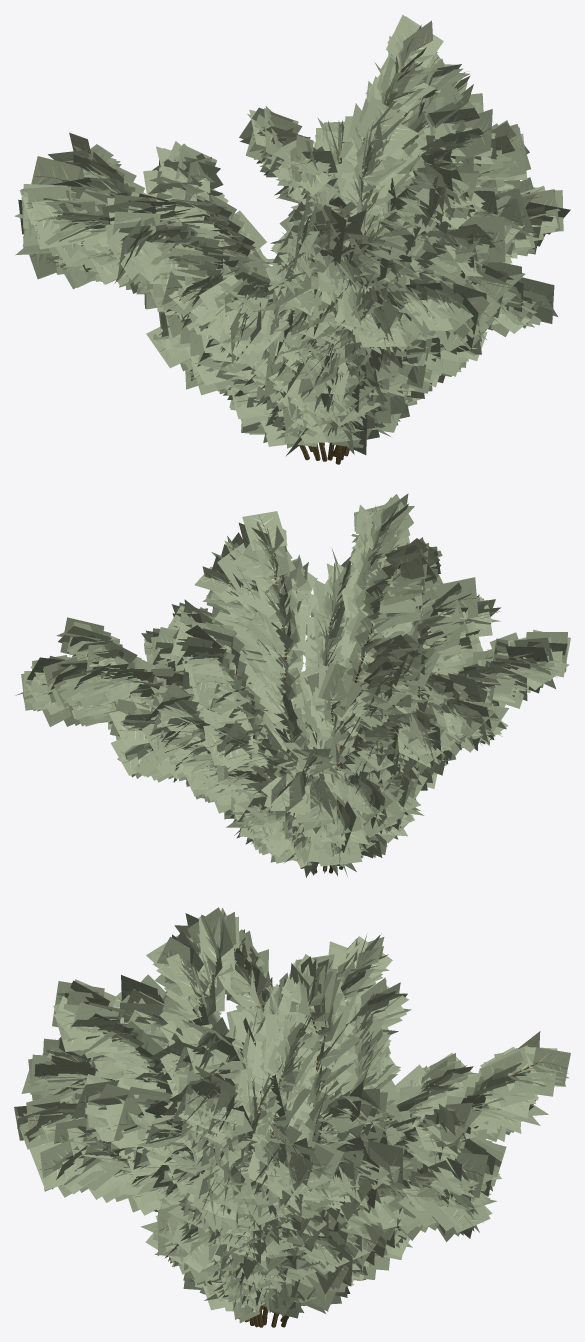
File: willow_shrub_v02.fbx
The picture shows the model from 3 angles, top to bottom: view 1: azimuth 30°, elevation 25°; view 2: azimuth 150°, elevation 25°; view 3: azimuth 270°, elevation 25°; orthographic projection. The views are drawn at different scales.
Visible parts, largest first — view 1: willow_shrub_v02; view 2: willow_shrub_v02; view 3: willow_shrub_v02.
Boxes of the visible parts, x1,y1,x2,y2 form: willow_shrub_v02: (14,14,570,464); willow_shrub_v02: (15,493,570,877); willow_shrub_v02: (14,907,570,1327).
Bounding box in the file's own units: 582 × 420 × 569.
Materials: 2 (2 with a texture image).
